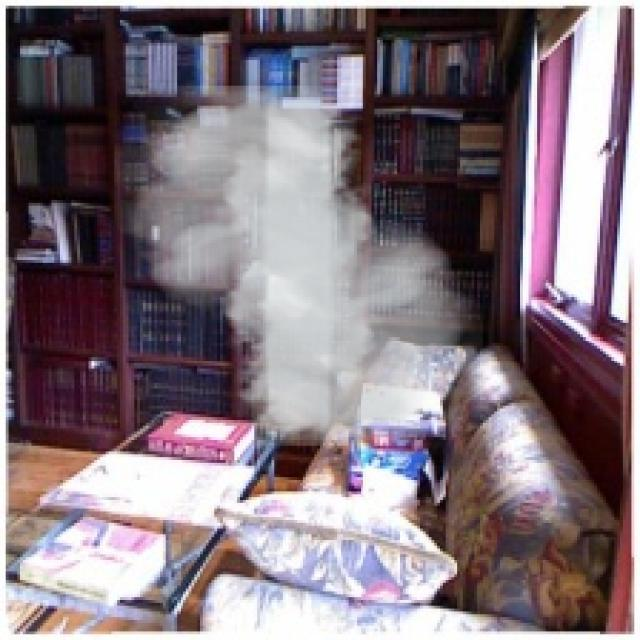Smoke: (114, 86, 483, 446)
